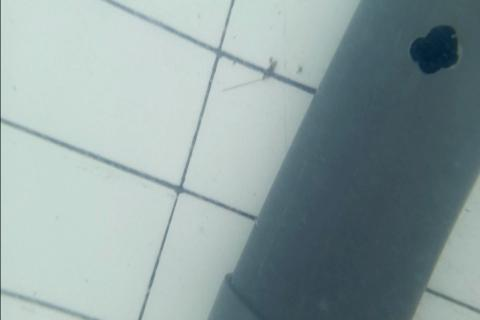kebocoran: (408, 22, 460, 76)
